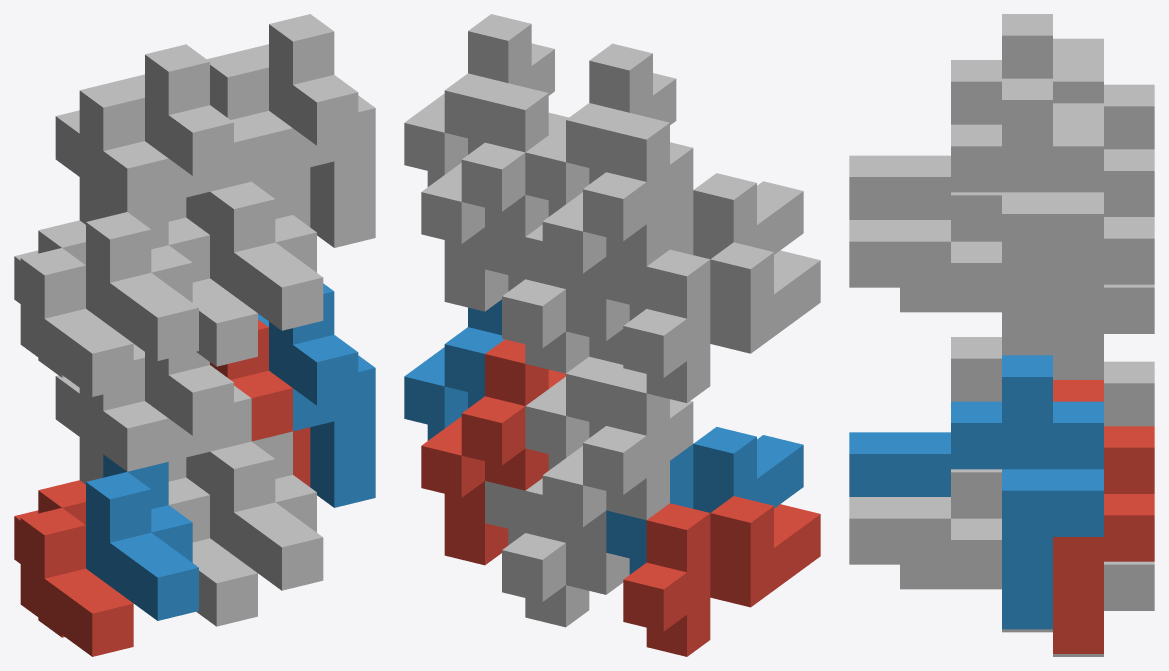
Rendered from tiling.obj.
3 renders of one model, left to right at view 1: azimuth 30°, elevation 25°; view 2: azimuth 150°, elevation 25°; view 3: azimuth 270°, elevation 25°, orthographic. The views are drawn at different scales.
Visible parts, largest first — view 1: copy_2_domain_8, copy_2_domain_6, copy_1_domain_2, copy_1_domain_4, copy_1_domain_6, copy_1_domain_8, copy_1_domain_3, copy_1_domain_1, copy_2_domain_4, copy_2_domain_3, copy_2_domain_2, copy_2_domain_1 (+4 smaller); view 2: copy_1_domain_1, copy_1_domain_3, copy_2_domain_3, copy_2_domain_1, copy_2_domain_7, copy_2_domain_5, copy_2_domain_4, copy_2_domain_8, copy_1_domain_2, copy_1_domain_4, copy_2_domain_2, copy_2_domain_6 (+4 smaller); view 3: copy_2_domain_6, copy_2_domain_8, copy_2_domain_5, copy_2_domain_7, copy_1_domain_6, copy_1_domain_8, copy_2_domain_4, copy_1_domain_2, copy_1_domain_4, copy_2_domain_3, copy_1_domain_5, copy_1_domain_7 (+2 smaller).
Part boxes in pixels (bbox=[...]): copy_2_domain_8: bbox=[245, 14, 375, 247]; copy_2_domain_6: bbox=[258, 283, 375, 507]; copy_1_domain_2: bbox=[86, 454, 198, 620]; copy_1_domain_4: bbox=[86, 194, 198, 360]; copy_1_domain_6: bbox=[210, 431, 323, 590]; copy_1_domain_8: bbox=[210, 171, 323, 330]; copy_1_domain_3: bbox=[14, 220, 133, 396]; copy_1_domain_1: bbox=[14, 480, 133, 656]; copy_2_domain_4: bbox=[121, 44, 251, 234]; copy_2_domain_3: bbox=[55, 80, 186, 224]; copy_2_domain_2: bbox=[133, 344, 251, 494]; copy_2_domain_1: bbox=[55, 350, 186, 484]; copy_1_domain_1: bbox=[623, 496, 820, 656]; copy_1_domain_3: bbox=[623, 242, 820, 402]; copy_2_domain_3: bbox=[542, 113, 693, 340]; copy_2_domain_1: bbox=[542, 369, 693, 594]; copy_2_domain_7: bbox=[421, 83, 568, 311]; copy_2_domain_5: bbox=[421, 339, 565, 565]; copy_2_domain_4: bbox=[525, 43, 676, 216]; copy_2_domain_8: bbox=[404, 14, 554, 186]; copy_1_domain_2: bbox=[606, 427, 803, 574]; copy_1_domain_4: bbox=[606, 173, 803, 320]; copy_2_domain_2: bbox=[525, 329, 625, 470]; copy_2_domain_6: bbox=[404, 299, 504, 440]; copy_2_domain_6: bbox=[951, 355, 1103, 629]; copy_2_domain_8: bbox=[951, 78, 1103, 352]; copy_2_domain_5: bbox=[1053, 380, 1154, 653]; copy_2_domain_7: bbox=[1053, 103, 1154, 376]; copy_1_domain_6: bbox=[849, 469, 1052, 632]; copy_1_domain_8: bbox=[849, 192, 1052, 355]; copy_2_domain_4: bbox=[951, 14, 1103, 124]; copy_1_domain_2: bbox=[849, 432, 950, 496]; copy_1_domain_4: bbox=[849, 155, 950, 219]; copy_2_domain_3: bbox=[1053, 38, 1154, 149]; copy_1_domain_5: bbox=[900, 561, 1154, 656]; copy_1_domain_7: bbox=[900, 284, 1154, 379].
Size of the model in its own units: 8 by 13 by 6.
